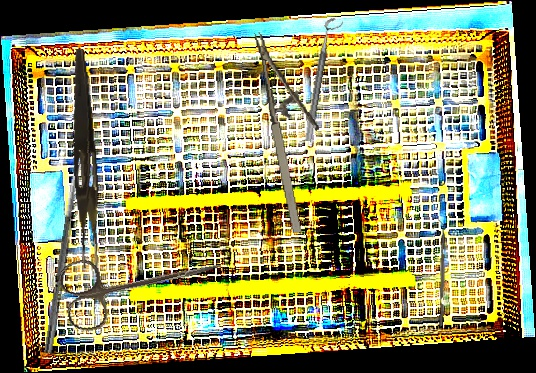Chopper: (434, 218, 447, 327)
Dressing Forceps: (63, 48, 107, 269)
Fixation Ring: (304, 16, 344, 144)
Iris Scissors: (55, 227, 230, 336)
Needle Holder: (254, 25, 335, 235)
Surgical Spoon: (44, 157, 84, 354)
